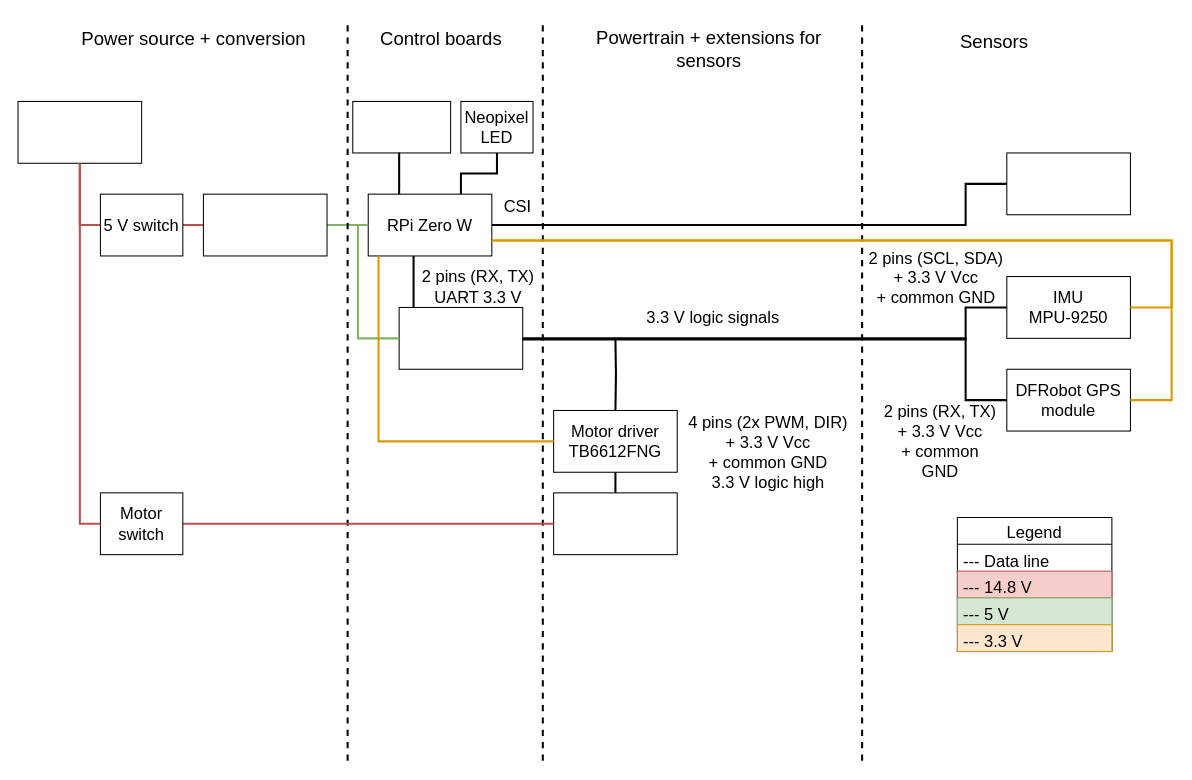
Some shapes in this 1192 by 780 pixel diagram are drawn without their labels. Each missing label, with the centre of its shape:
2x Brushed DC motor 12 V: point 615,523
Battery 4S Li-Po 14.8V: point 79,131
HobbyKing Buck converter 5 V: point 264,224
Pyboard: point 460,337
Reset/power switch: point 401,126
RPi Z Camera: point 1068,183
